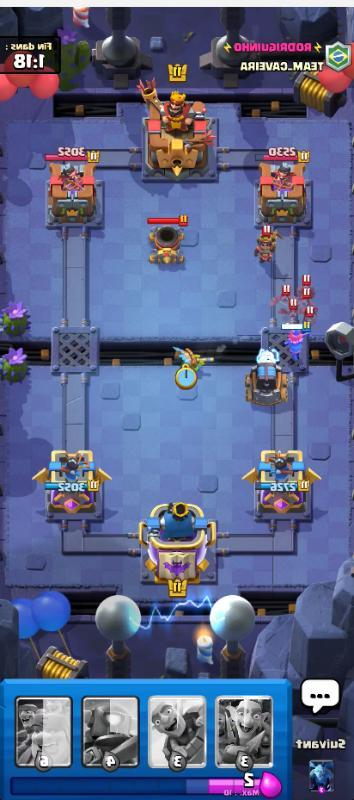enemy_bats: (267, 284, 297, 304), (276, 299, 305, 319)
enemy_little_prince: (251, 230, 280, 262)
enemy_mortar: (142, 211, 196, 271)
player_dart_goblin: (170, 342, 217, 384)
player_sparky: (238, 344, 297, 408)
player_valkyrie: (279, 322, 313, 360)
